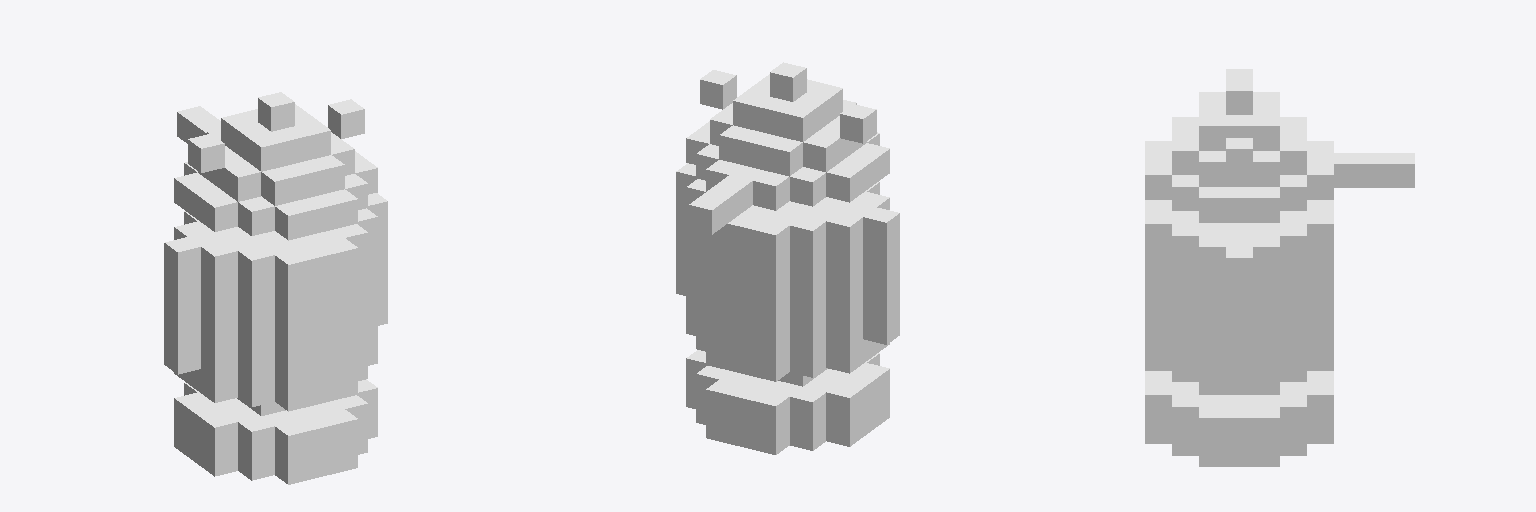
The model's file is enemy_droid.obj.
3 views of the same model, side by side, from view 1: azimuth 30°, elevation 25°; view 2: azimuth 150°, elevation 25°; view 3: azimuth 270°, elevation 25° (orthographic).
Visible parts, largest first — view 1: object 1; view 2: object 1; view 3: object 1.
Part boxes in pixels (left/top/right/bottom): object 1: left=164, top=92, right=387, bottom=484; object 1: left=676, top=62, right=899, bottom=454; object 1: left=1145, top=69, right=1414, bottom=466.
Size of the model in its own units: 0.9 by 1.4 by 1.